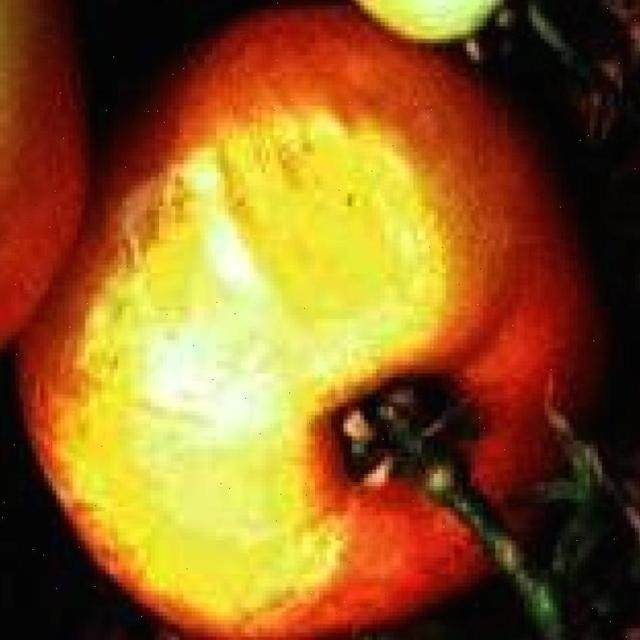Sunscald Fruit: (44, 52, 323, 418)
